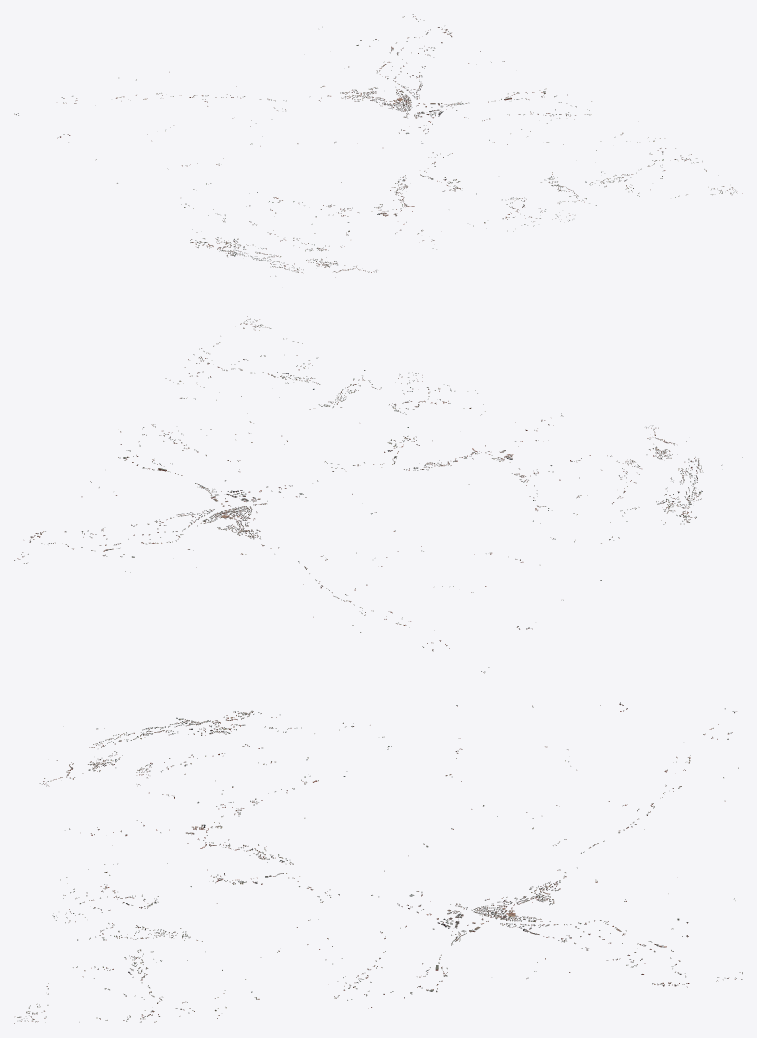
The model's file is buildings_far.glb.
3 renders of one model, top to bottom at view 1: azimuth 30°, elevation 25°; view 2: azimuth 150°, elevation 25°; view 3: azimuth 270°, elevation 25°, orthographic. The views are drawn at different scales.
Parts seen in each view (by area): view 1: buildings_far_0, buildings_far_1; view 2: buildings_far_0, buildings_far_1; view 3: buildings_far_0, buildings_far_1.
Boxes of the visible parts, <box> form: buildings_far_0: <box>14,71,560,277</box>; buildings_far_1: <box>322,14,742,221</box>; buildings_far_0: <box>196,375,742,673</box>; buildings_far_1: <box>14,316,418,572</box>; buildings_far_0: <box>39,702,738,914</box>; buildings_far_1: <box>14,887,742,1023</box>.
Size of the model in its own units: 10246 by 268 by 10089.
